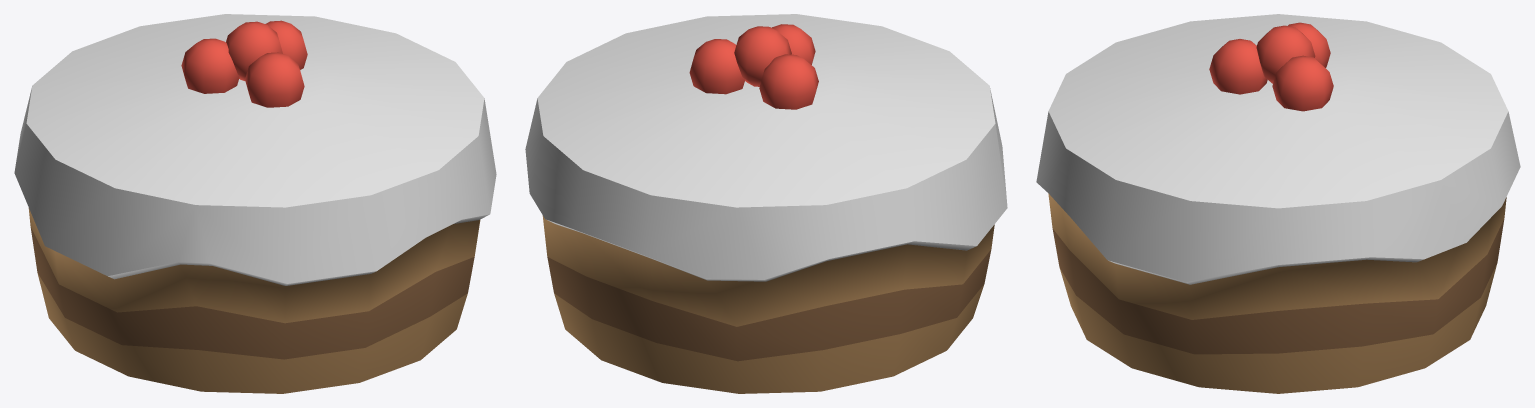
File: Cake.glb
3 views of the same model, side by side, from view 1: azimuth 30°, elevation 25°; view 2: azimuth 150°, elevation 25°; view 3: azimuth 270°, elevation 25° (orthographic).
Visible parts, largest first — view 1: Cake; view 2: Cake; view 3: Cake.
Part boxes in pixels (x1=…): Cake: x1=14, y1=14, x2=496, y2=393; Cake: x1=525, y1=14, x2=1007, y2=393; Cake: x1=1036, y1=14, x2=1520, y2=393.
Size of the model in its own units: 0.315 by 0.2 by 0.315.
